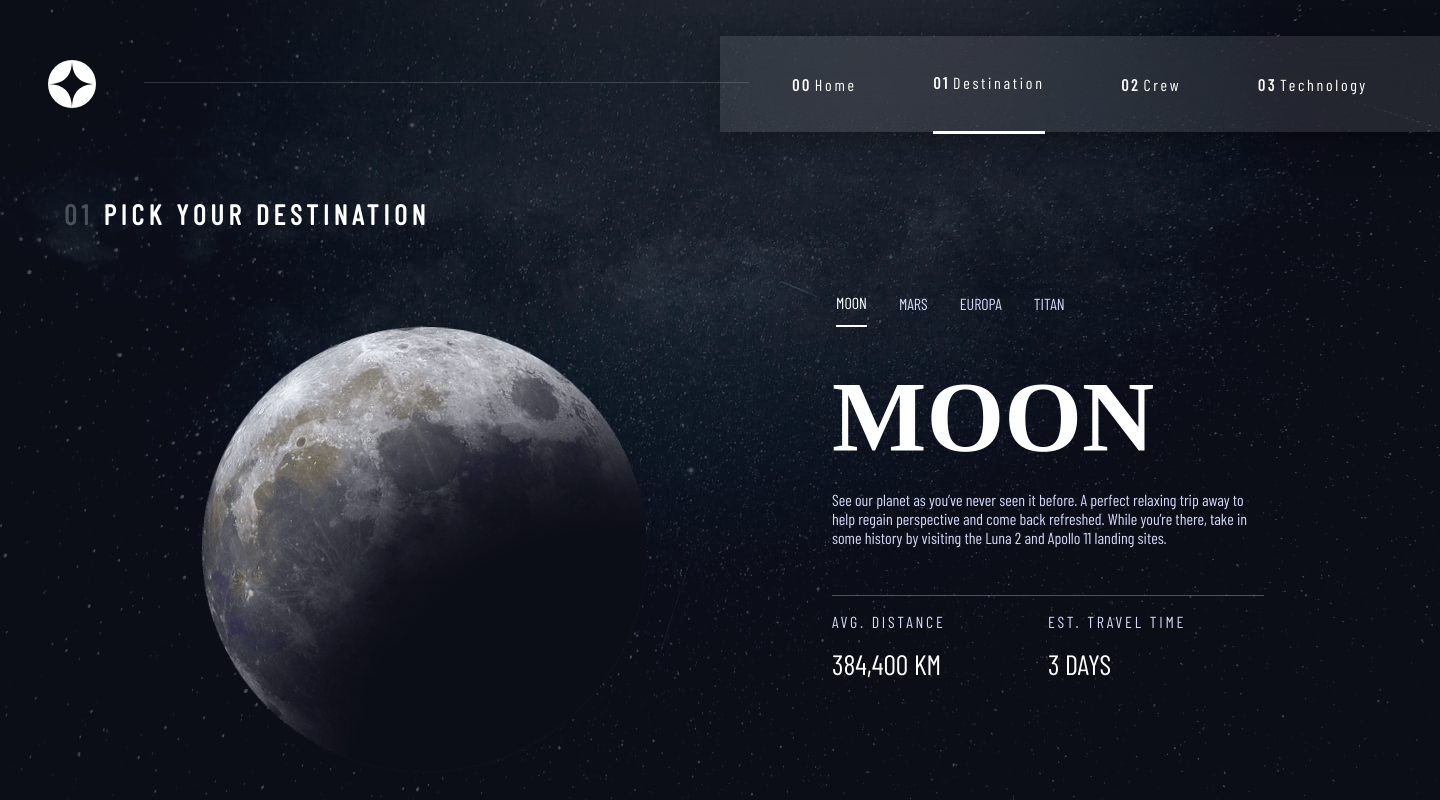
Scenario: Test destination navigation › Travel time should be 9 months
Click the text "MARS" at (914, 304), box x1=899 y1=294 x2=928 y2=313
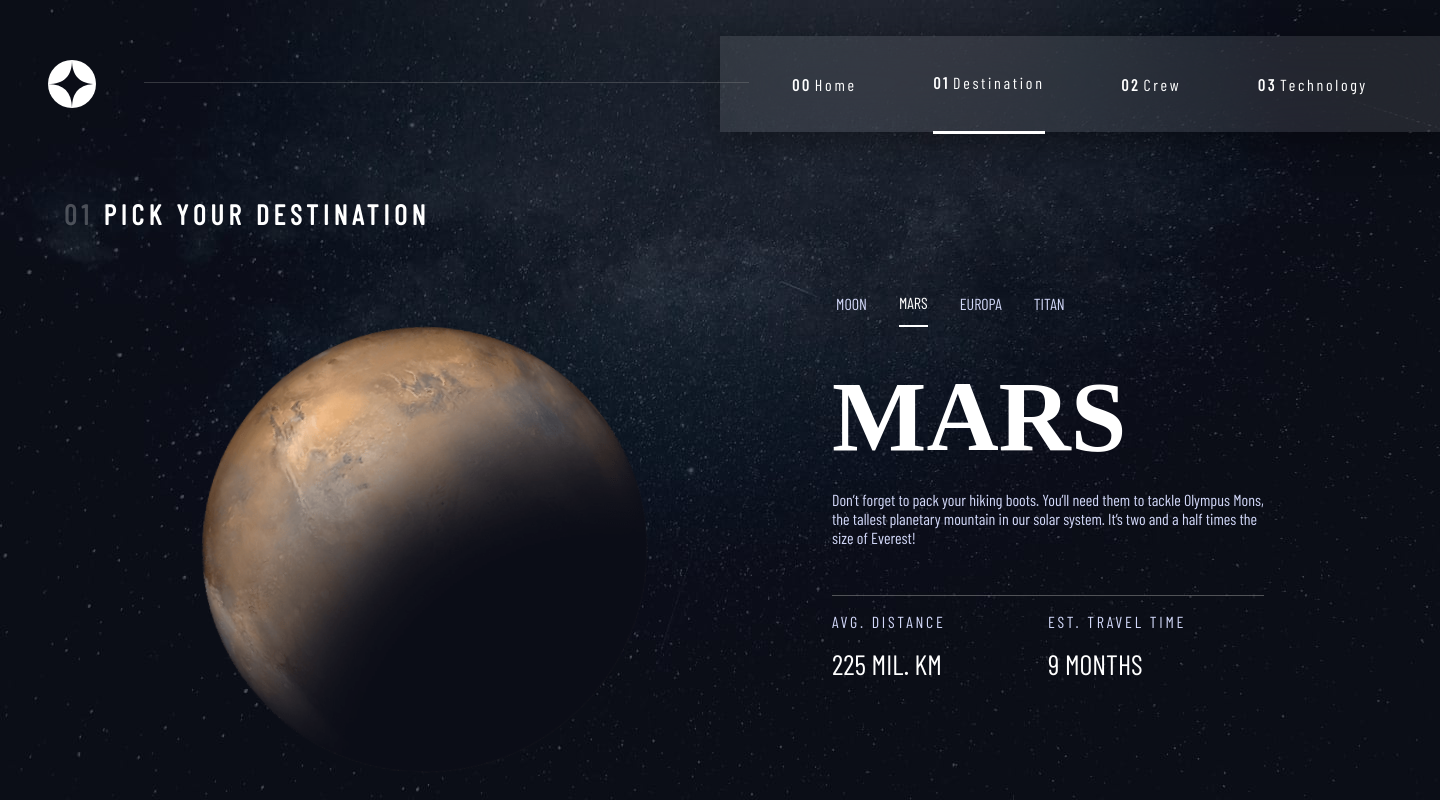
Expected: the text "9 months" is shown, x1=1048 y1=647 x2=1143 y2=681
